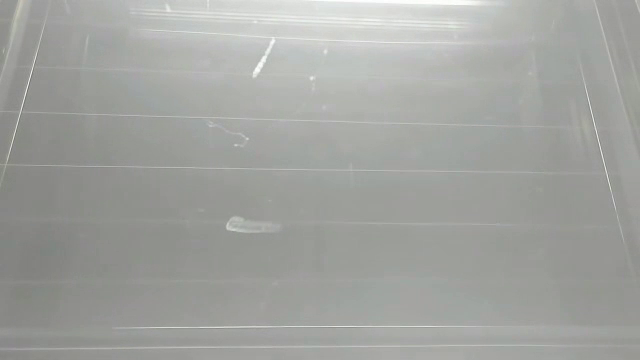alpha: (224, 212, 285, 241), (249, 34, 279, 80)
